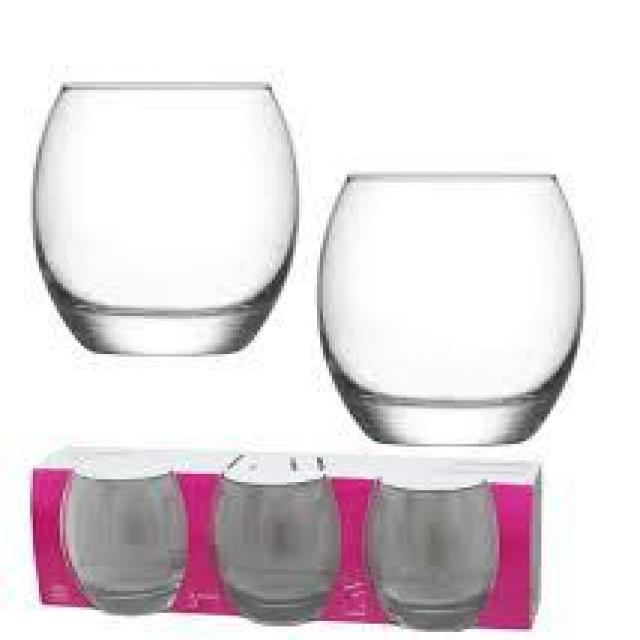non-organic waste: (24, 83, 299, 358), (212, 452, 338, 621)
